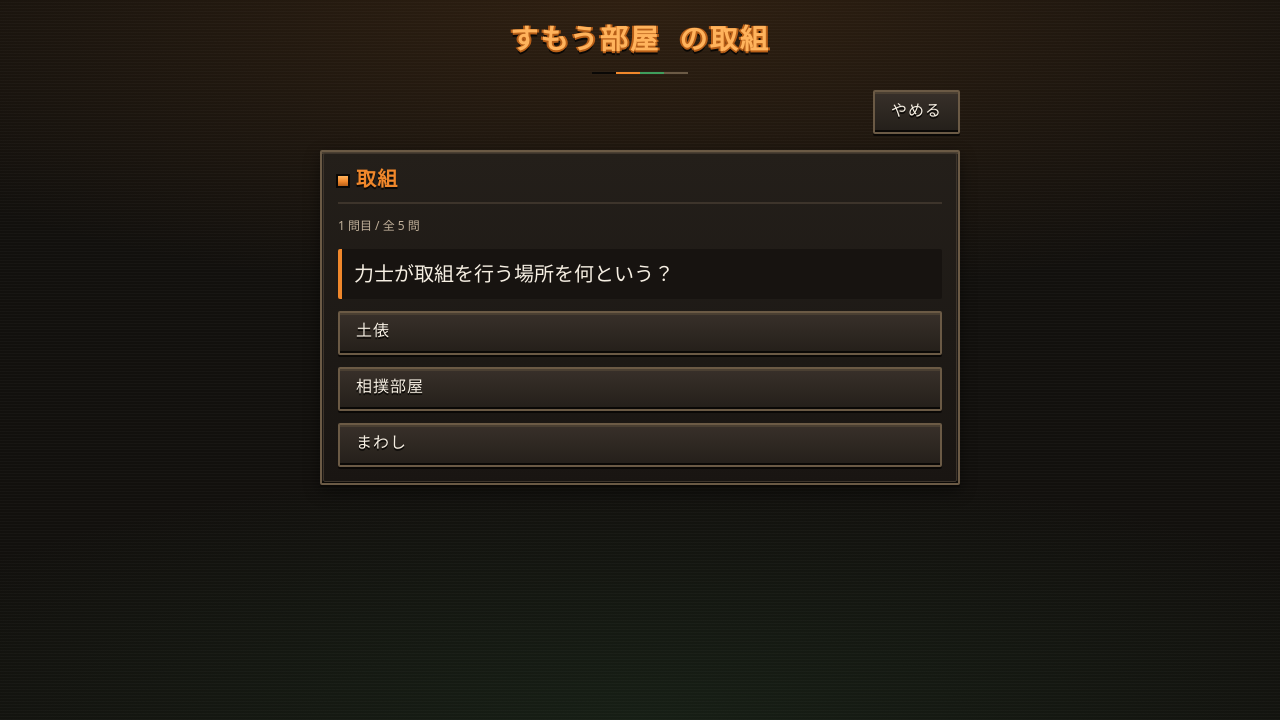
Test: 取組画面 › 正解すると正誤と解説が出る
Expected: the text "力士が取組を行う場所を何という？" is shown, [338,249,942,299]
Step 1. Click the button "土俵" → (373, 332), box [338,311,942,355]
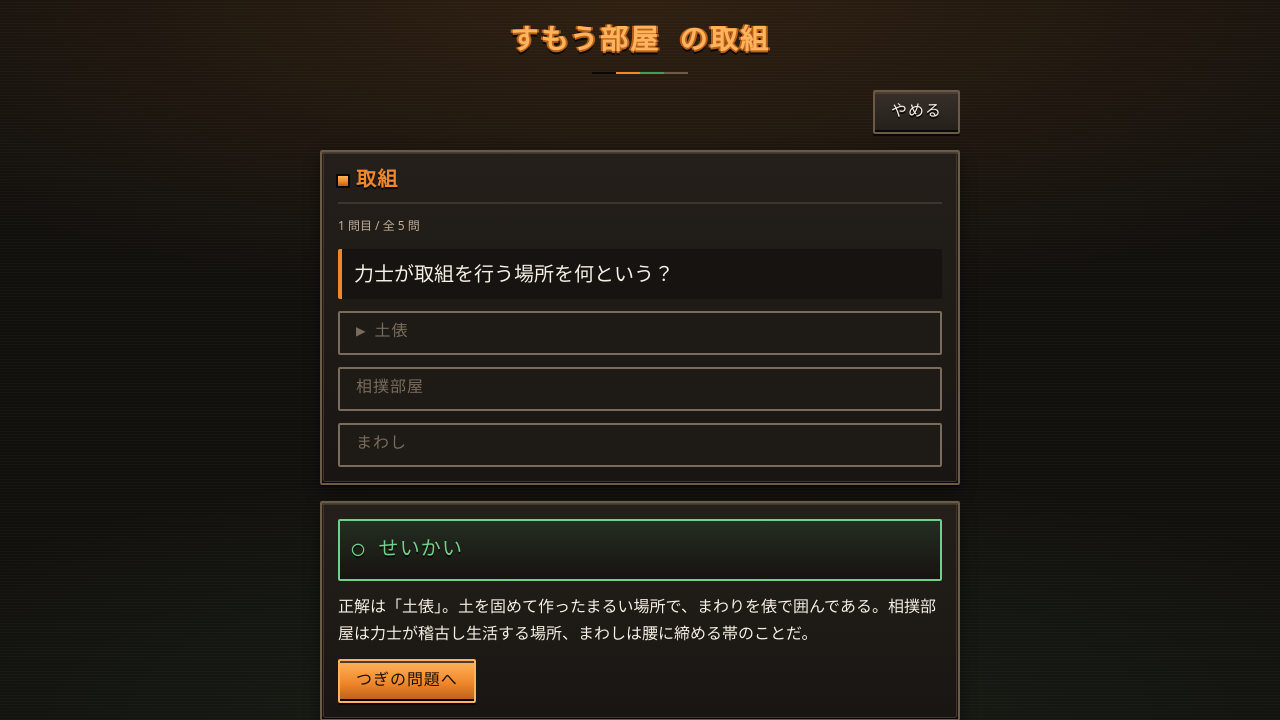
Now the message shows "せいかい", box [352,538,463,561]
Now the text "正解は「土俵」。土を固めて作ったまるい場所で、まわりを俵で囲んである。相撲部屋は力士が稽古し生活する場所、まわしは腰に締める帯のことだ。" is shown, box [338,593,942,647]
